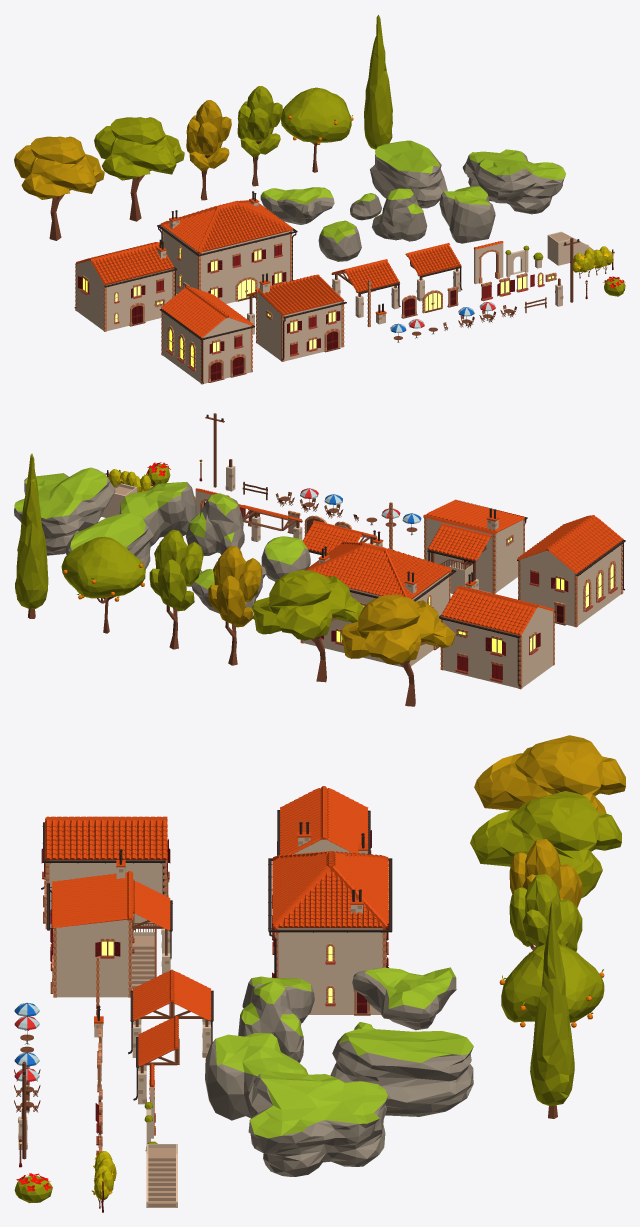
The model's file is assets_instanced.glb.
3 renders of one model, top to bottom at view 1: azimuth 30°, elevation 25°; view 2: azimuth 150°, elevation 25°; view 3: azimuth 270°, elevation 25°, orthographic. The views are drawn at different scales.
Parts seen in each view (by area): view 1: house 2, house 1, house 3, house 4, tree 1, tree 2, rock 7, rock 5, tree 5, tree 6, tree 4, tree 3 (+10 smaller); view 2: house 1, house 3, house 4, house 2, tree 1, tree 2, rock 7, tree 5, tree 6, tree 4, tree 3, rock 6 (+9 smaller); view 3: house 2, house 4, rock 7, rock 5, house 3, tree 2, tree 1, tree 6, house 1, rock 6, tree 5, rock 1 (+9 smaller).
Part boxes in pixels (box(x1,y1,x2,y2)): house 2: box(157, 191, 297, 303); house 1: box(74, 239, 177, 331); house 3: box(159, 286, 254, 384); house 4: box(246, 273, 346, 361); tree 1: box(14, 136, 104, 240); tree 2: box(94, 117, 184, 221); rock 7: box(462, 149, 565, 214); rock 5: box(370, 140, 447, 208); tree 5: box(280, 87, 353, 172); tree 6: box(364, 15, 392, 156); tree 4: box(237, 86, 282, 186); tree 3: box(186, 100, 231, 200); house 1: box(439, 572, 555, 689); house 3: box(517, 515, 625, 627); house 4: box(423, 499, 527, 593); house 2: box(300, 541, 456, 667); tree 1: box(341, 594, 455, 706); tree 2: box(252, 570, 363, 682); rock 7: box(14, 467, 115, 555); tree 5: box(61, 536, 145, 633); tree 6: box(15, 453, 48, 618); tree 4: box(149, 529, 203, 649); tree 3: box(208, 546, 262, 665); rock 6: box(119, 482, 196, 546); house 2: box(268, 833, 392, 1015); house 4: box(47, 849, 172, 997); rock 7: box(247, 1071, 387, 1176); rock 5: box(330, 1028, 473, 1116); house 3: box(41, 816, 170, 930); tree 2: box(470, 791, 621, 898); tree 1: box(474, 735, 625, 813); tree 6: box(530, 903, 574, 1118); house 1: box(277, 786, 371, 855); rock 6: box(205, 1033, 307, 1120); tree 5: box(499, 944, 604, 1027); rock 1: box(352, 967, 456, 1030).
Size of the model in its own units: 96.88 by 34.03 by 74.42.
